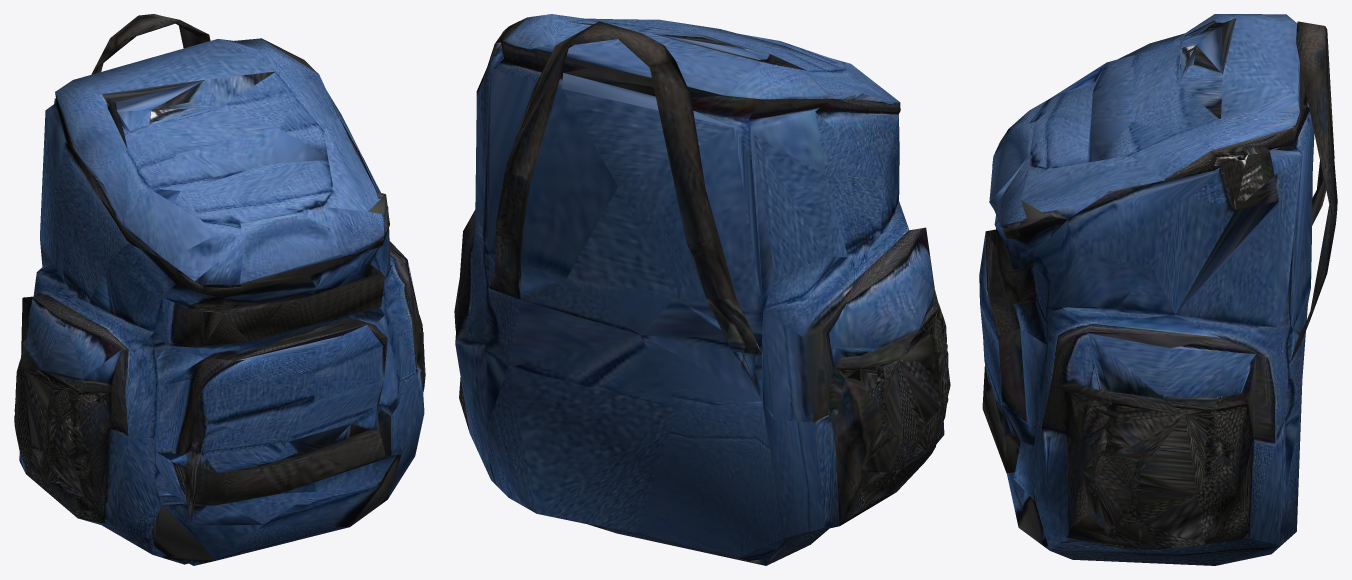
File: mochila_esportiva_azul.glb
3 renders of one model, left to right at view 1: azimuth 30°, elevation 25°; view 2: azimuth 150°, elevation 25°; view 3: azimuth 270°, elevation 25°, orthographic. The views are drawn at different scales.
Visible parts, largest first — view 1: Prop_mochila_esportiva; view 2: Prop_mochila_esportiva; view 3: Prop_mochila_esportiva.
Boxes of the visible parts, x1,y1,x2,y2 form: Prop_mochila_esportiva: (14,14,425,565); Prop_mochila_esportiva: (454,14,950,565); Prop_mochila_esportiva: (979,14,1337,565).
Size of the model in its own units: 0.4268 by 0.48 by 0.3262.
1 material, 1 textured.
